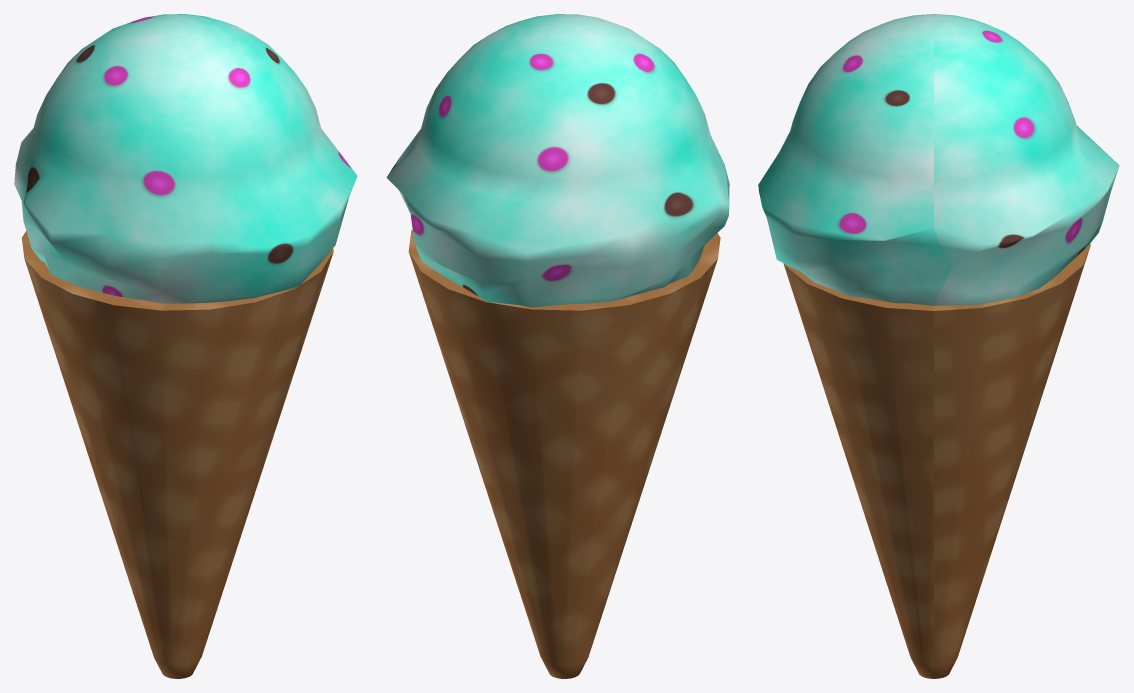
The model's file is BgMD_icecream_01_01 (1).fbx.
3 views of the same model, side by side, from view 1: azimuth 30°, elevation 25°; view 2: azimuth 150°, elevation 25°; view 3: azimuth 270°, elevation 25° (orthographic).
Visible parts, largest first — view 1: BgMD_icecream_01_01; view 2: BgMD_icecream_01_01; view 3: BgMD_icecream_01_01.
Boxes of the visible parts, x1,y1,x2,y2 form: BgMD_icecream_01_01: [14, 14, 357, 678]; BgMD_icecream_01_01: [386, 14, 729, 678]; BgMD_icecream_01_01: [758, 14, 1119, 678].
Bounding box in the file's own units: 377 × 789 × 400.
